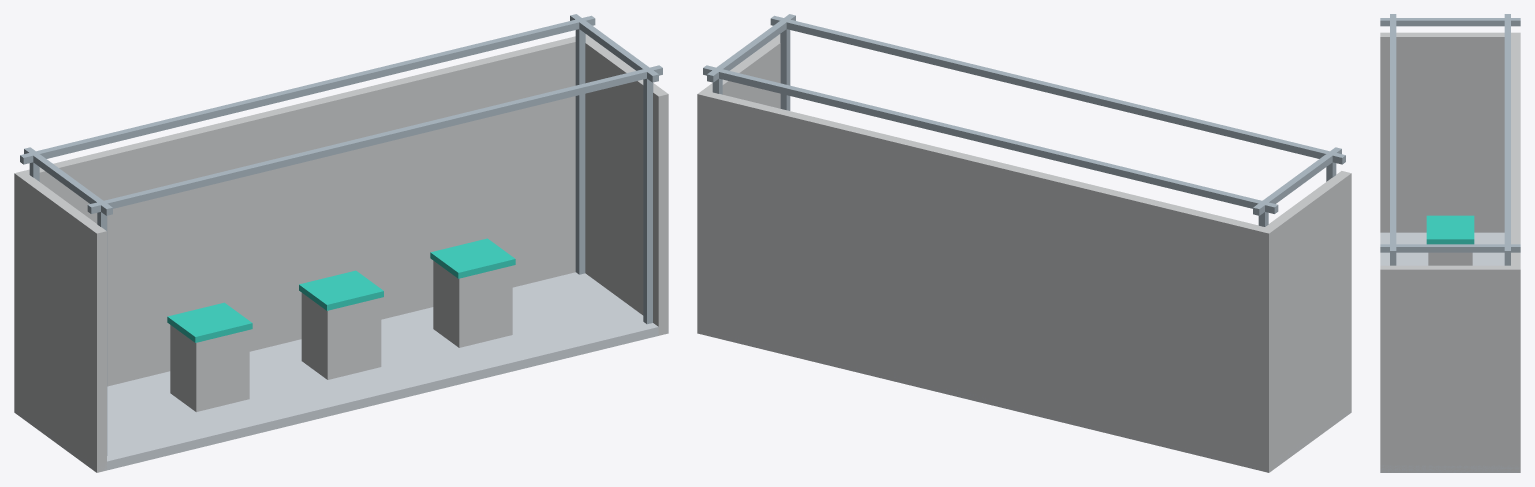
3 renders of one model, left to right at view 1: azimuth 30°, elevation 25°; view 2: azimuth 150°, elevation 25°; view 3: azimuth 270°, elevation 25°, orthographic. The views are drawn at different scales.
Visible parts, largest first — view 1: Exhibition Booth Concept; view 2: Exhibition Booth Concept; view 3: Exhibition Booth Concept.
Part boxes in pixels (x1,y1,x2,y2): Exhibition Booth Concept: (14, 14, 668, 472); Exhibition Booth Concept: (697, 14, 1351, 472); Exhibition Booth Concept: (1380, 14, 1520, 472).
Bounding box in the file's own units: 8 × 3.49 × 2.
